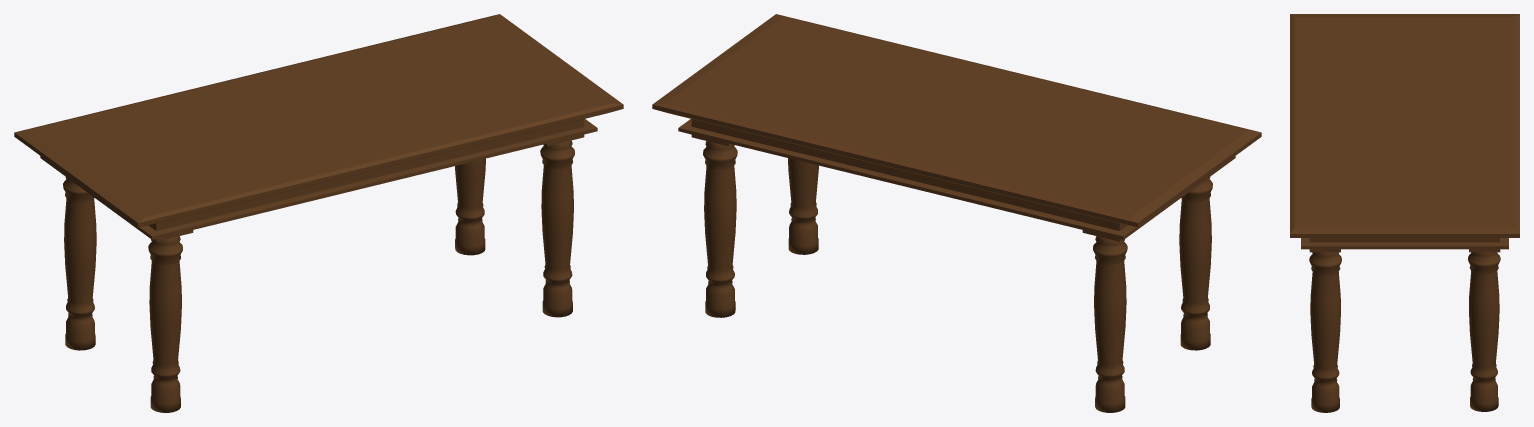
File: livingRoomTable.fbx
3 views of the same model, side by side, from view 1: azimuth 30°, elevation 25°; view 2: azimuth 150°, elevation 25°; view 3: azimuth 270°, elevation 25° (orthographic). The views are drawn at different scales.
Parts seen in each view (by area): view 1: DinnerTable; view 2: DinnerTable; view 3: DinnerTable.
Part boxes in pixels (x1,y1,x2,y2): DinnerTable: (14, 14, 623, 412); DinnerTable: (652, 14, 1261, 412); DinnerTable: (1290, 14, 1519, 412).
Bounding box in the file's own units: 8.38 × 3.47 × 3.7.
